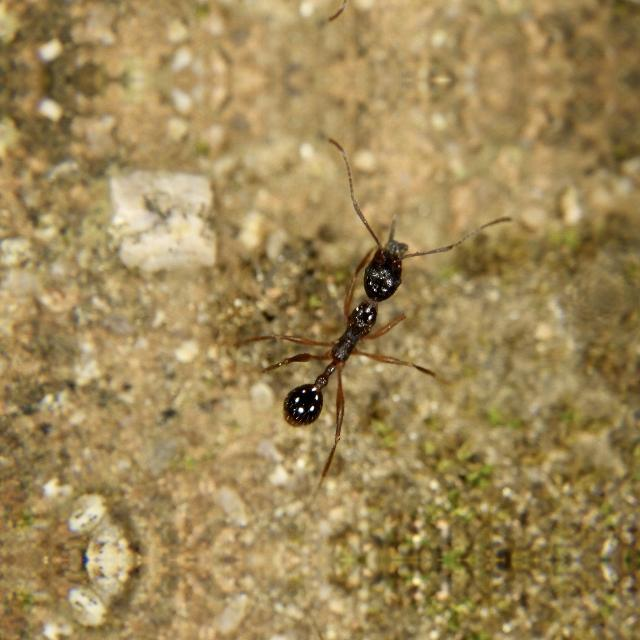Apheanogaster: (243, 208, 462, 454)
